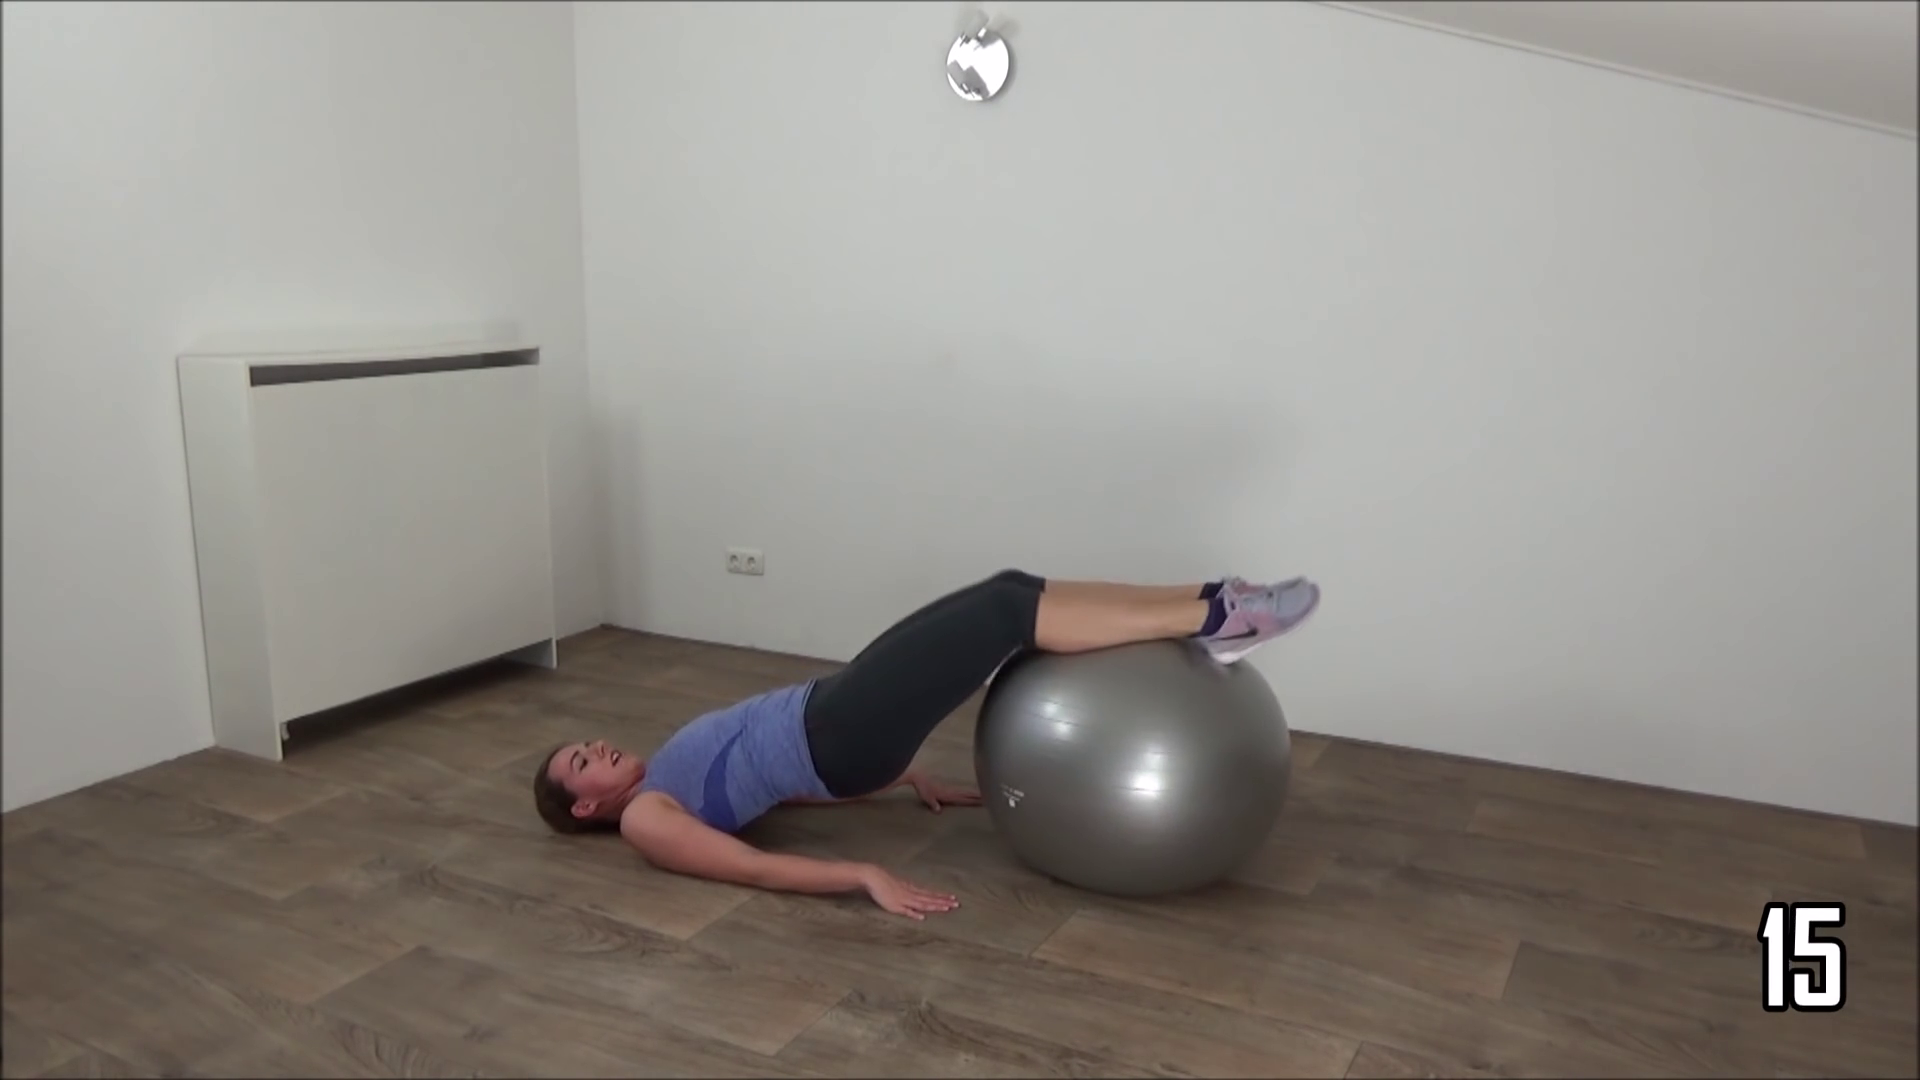yogaball: (963, 603, 1323, 914)
